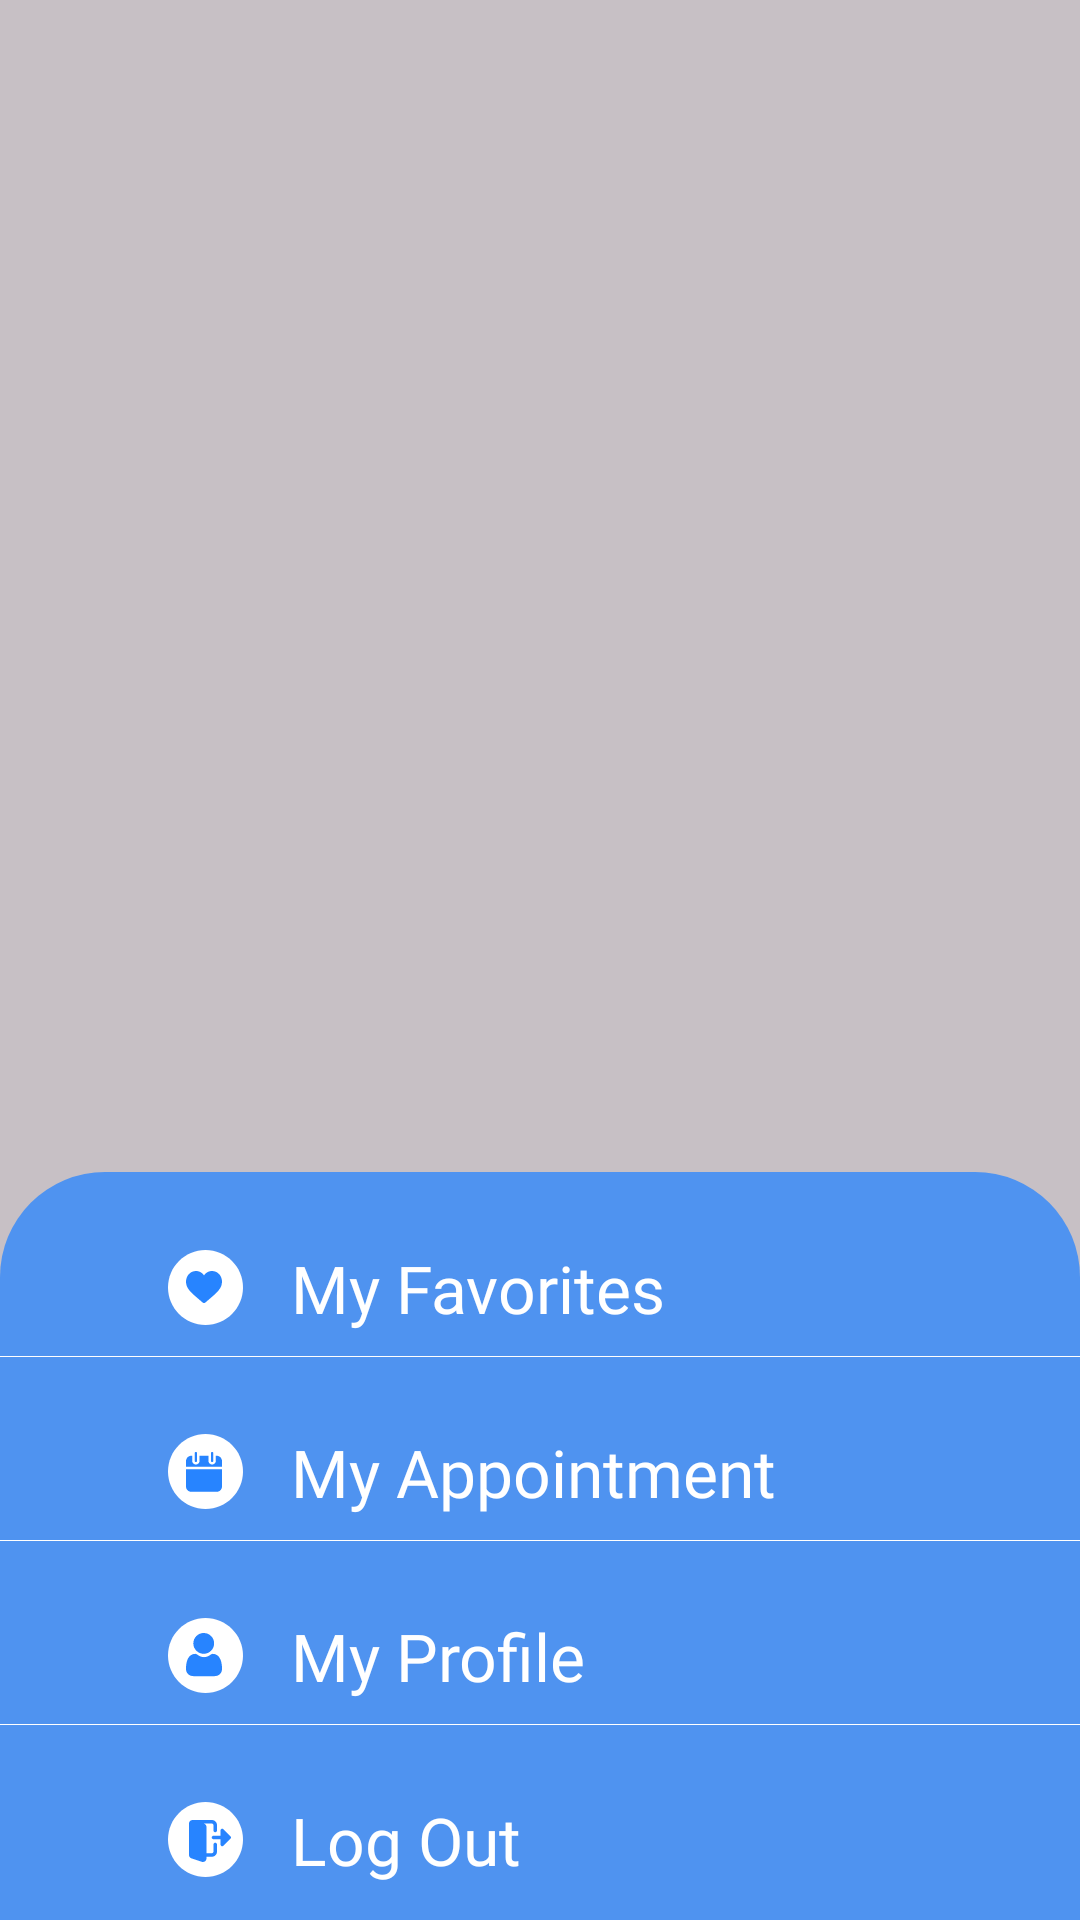

Icons on this 1080*1920 Android screen, each with the point to tap as (x,y):
appointment option: (205,1471)
favorite option: (205,1287)
profile option: (205,1655)
